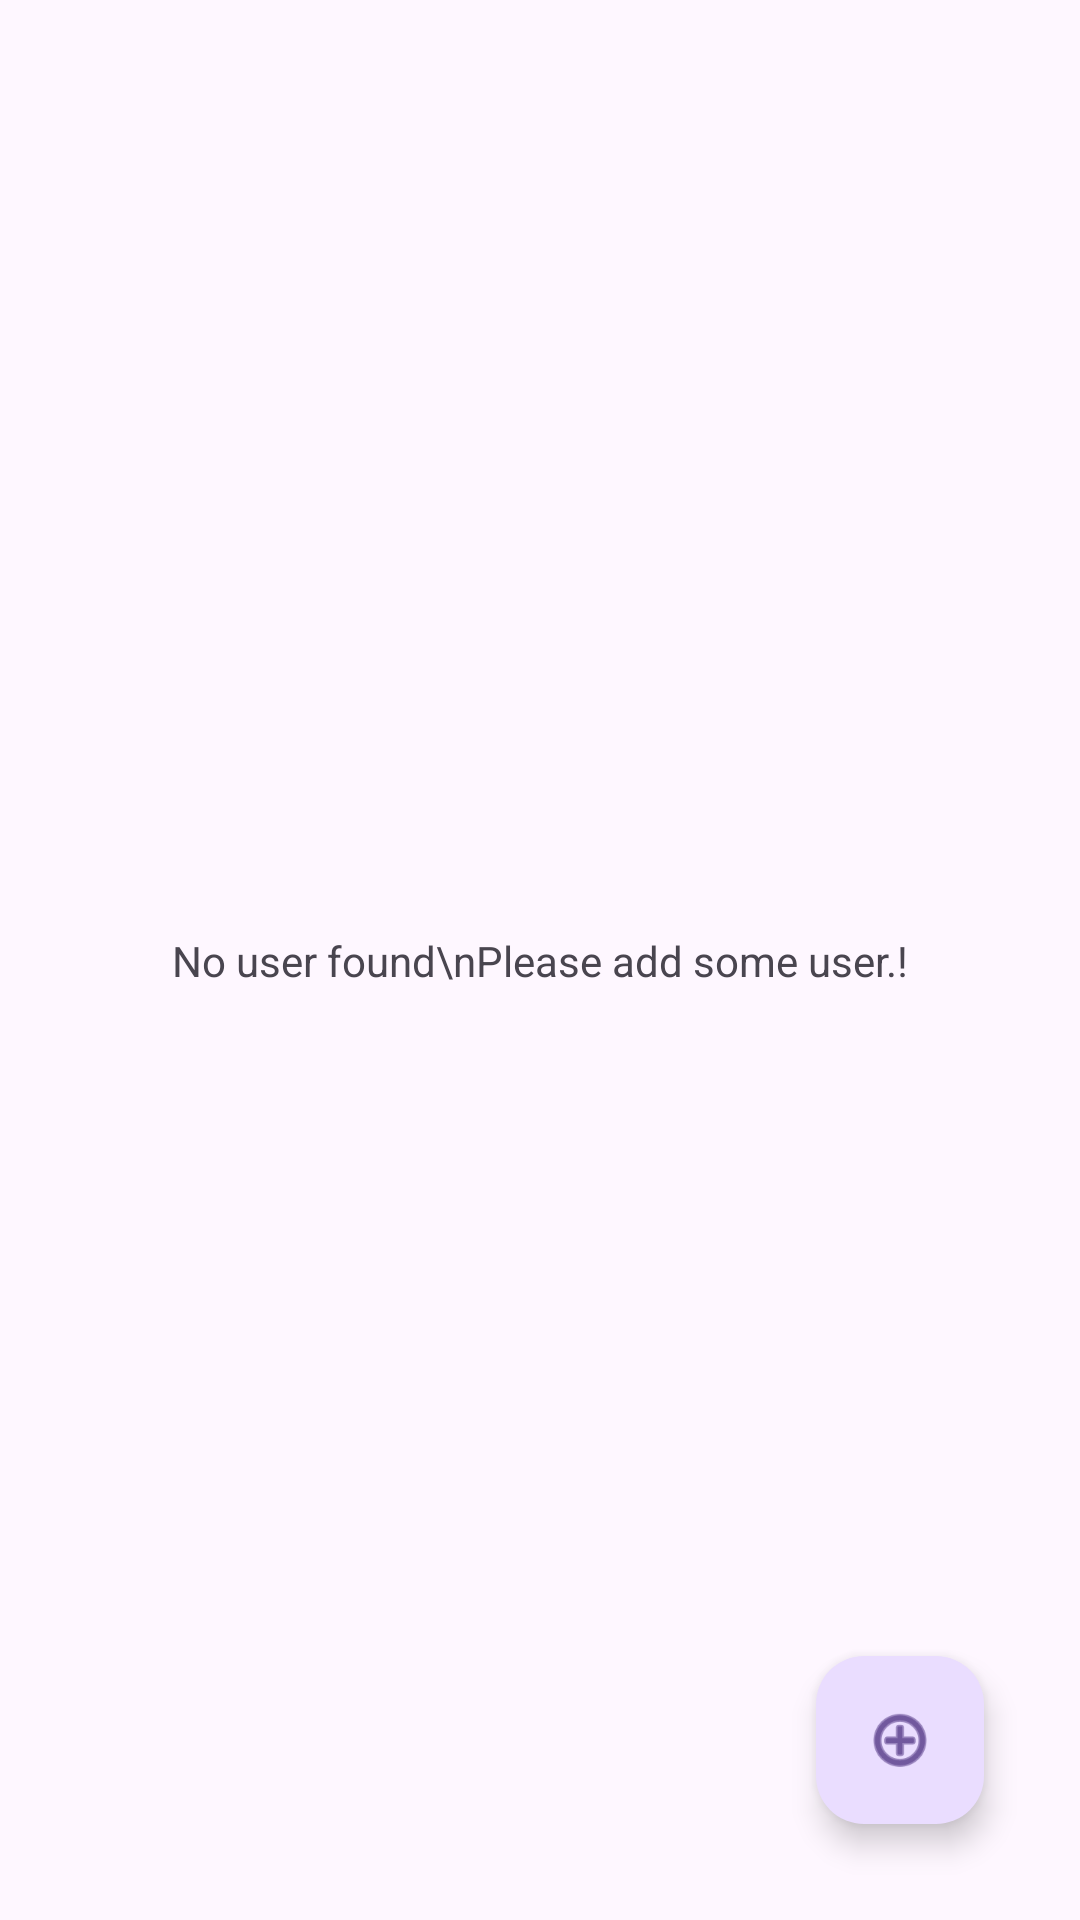

Icon click points for this 1080 × 1920 phone screenshot, format (x,y):
add: (900,1740)
